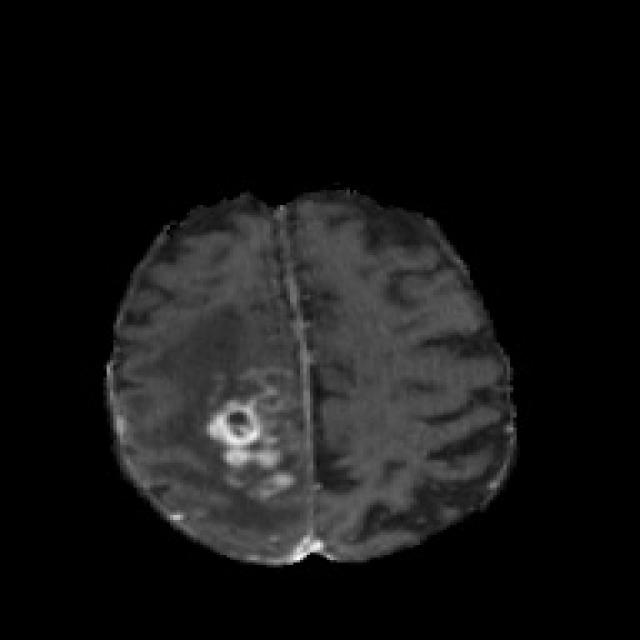positive: (207, 400, 293, 488)
